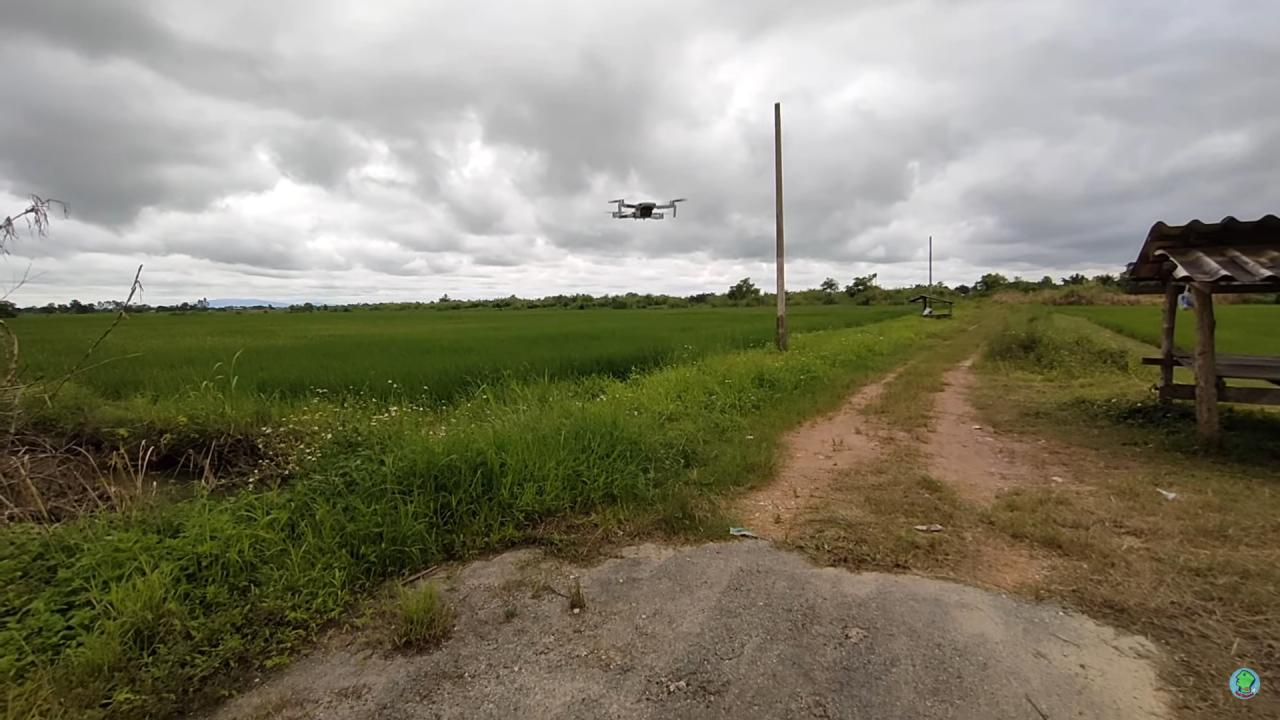Drone: (598, 188, 694, 232)
